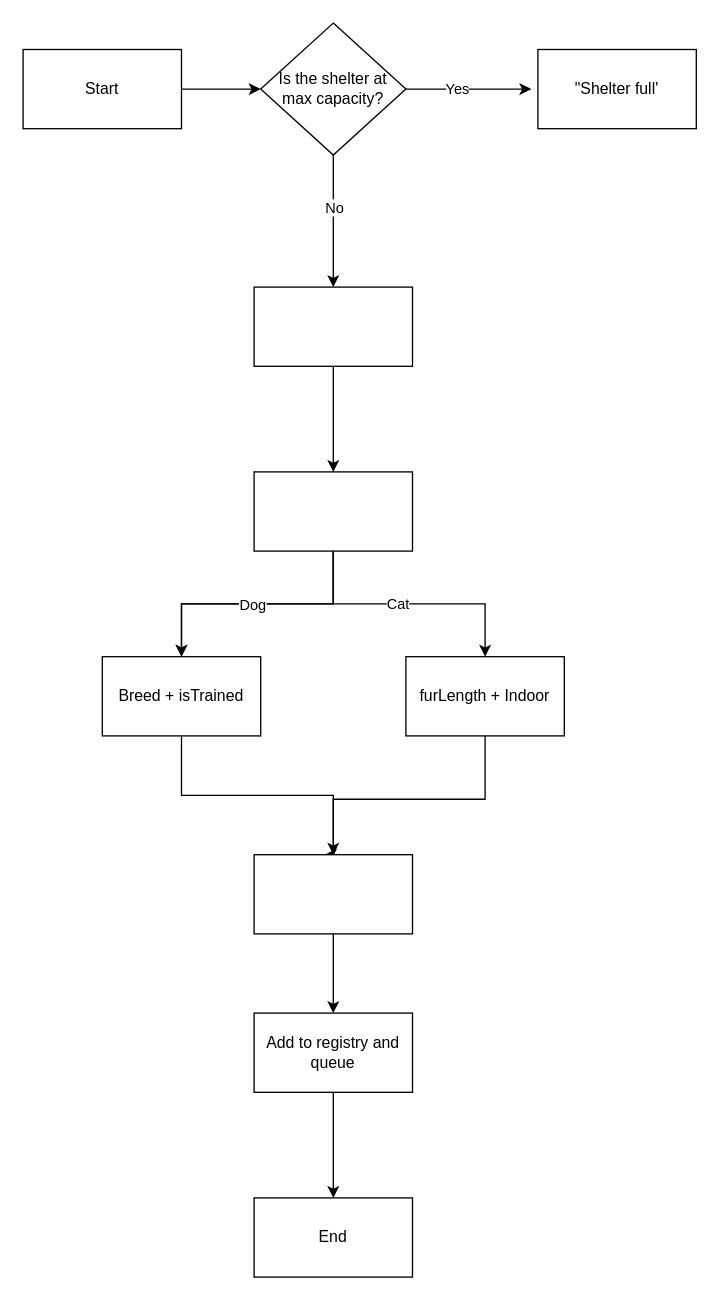
Some shapes in this 719 by 1300 pixel diagram are drawn without their labels. Here are the shapes that lost their labels. From the top down, the box of each, then its label:
(253, 286, 412, 366): Ask name and age
(253, 471, 412, 551): Ask animal type
(253, 853, 412, 934): Ask vaccination info
